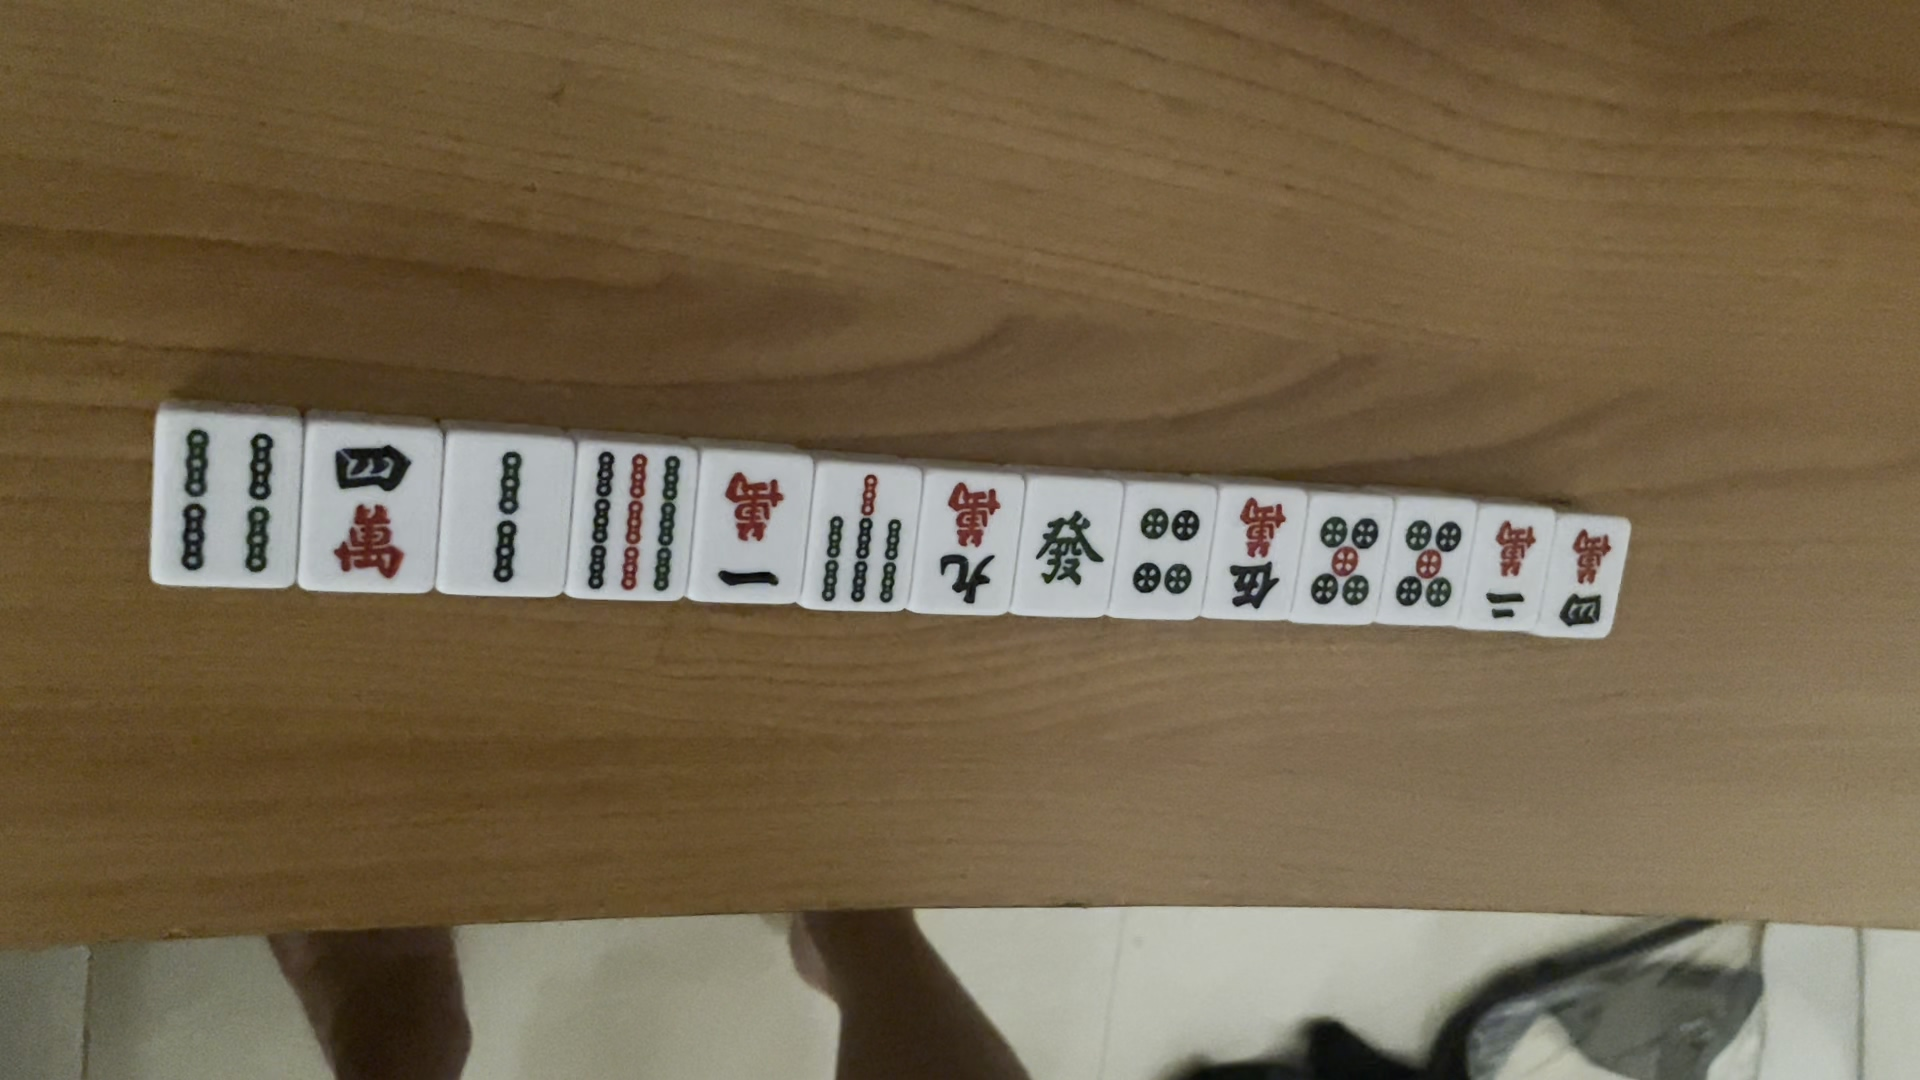b-2: (462, 450, 542, 582)
b-4: (167, 422, 278, 576), (1126, 504, 1207, 601)
b-7: (816, 472, 907, 608)
b-9: (578, 447, 683, 593)
c-1: (715, 460, 791, 596)
c-2: (1481, 520, 1542, 630)
c-4: (313, 438, 415, 580), (1555, 524, 1615, 632)
c-5: (1225, 495, 1291, 615)
c-9: (931, 480, 1007, 612)
d-5: (1309, 512, 1383, 615), (1394, 514, 1461, 617)
honors-green: (1029, 506, 1106, 591)
